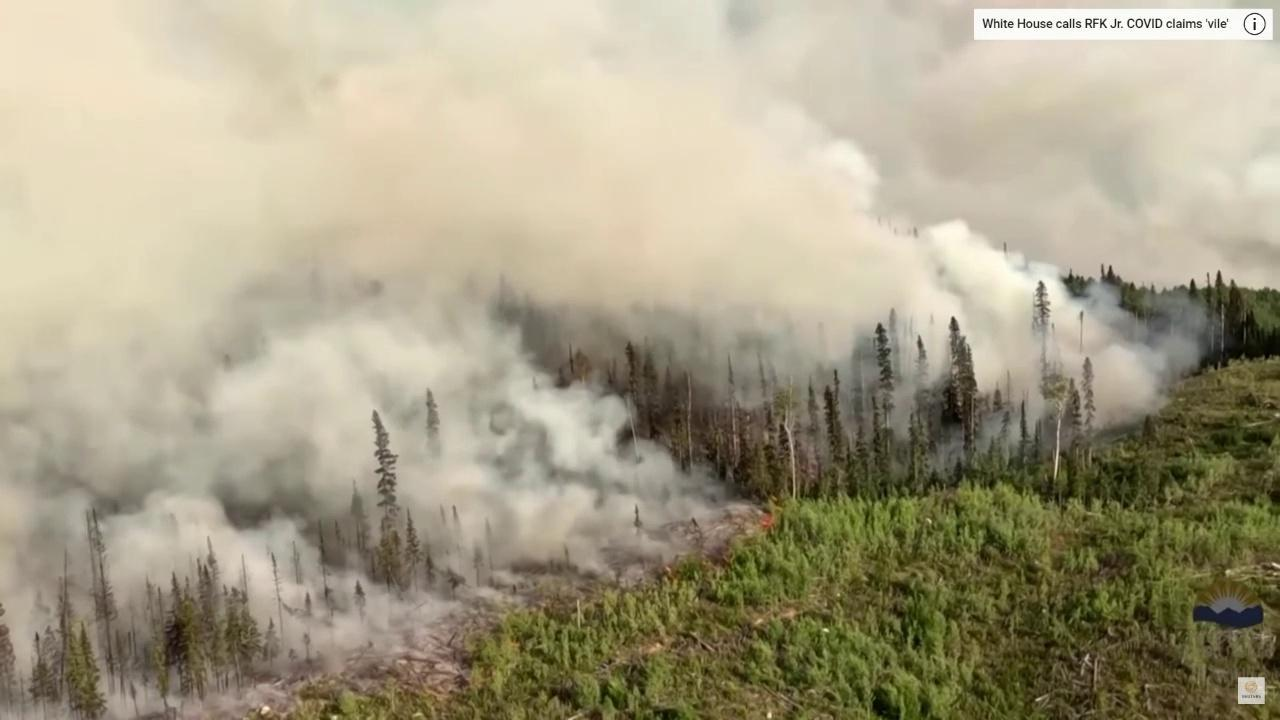fire: (754, 509, 777, 530)
smoke: (0, 0, 1280, 720)
